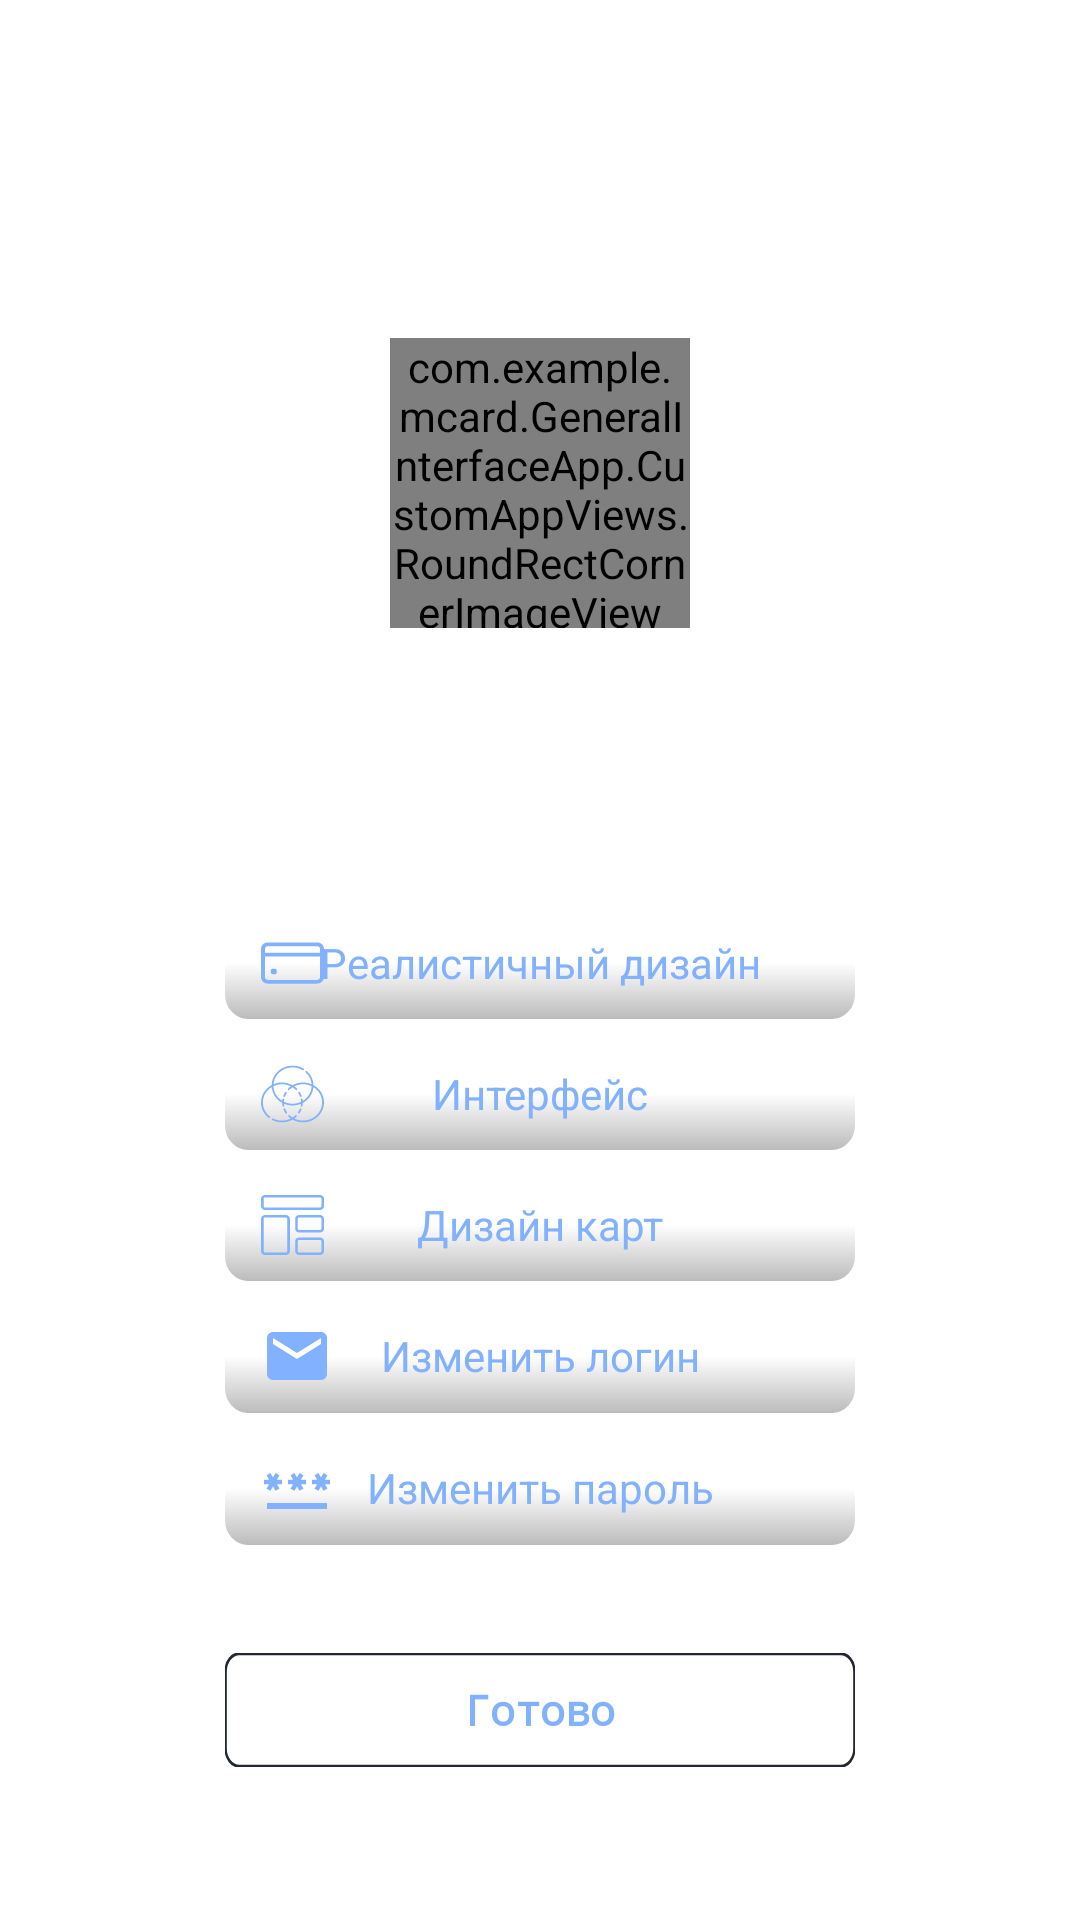

Screen size 1080px×1920px. Icon name, then its box in pixels as {"x1": x1, "y1": y1, "x2": x2, "y2": y2}:
login: {"x1": 225, "y1": 1332, "x2": 369, "y2": 1413}
password: {"x1": 225, "y1": 1473, "x2": 369, "y2": 1545}
